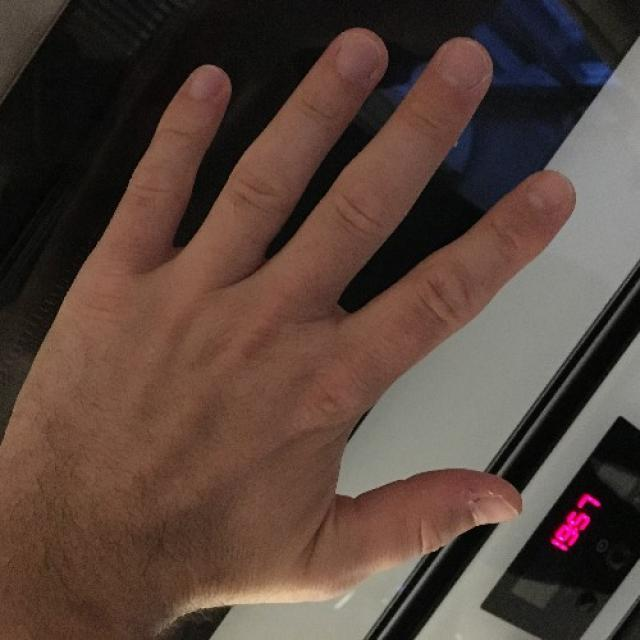paper: (66, 24, 576, 604)
